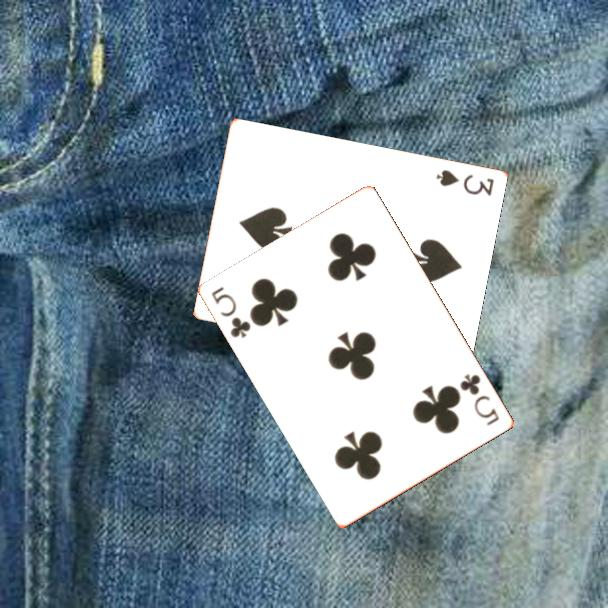c05: (456, 370, 503, 429), (208, 283, 254, 341)
s03: (433, 166, 497, 199)
